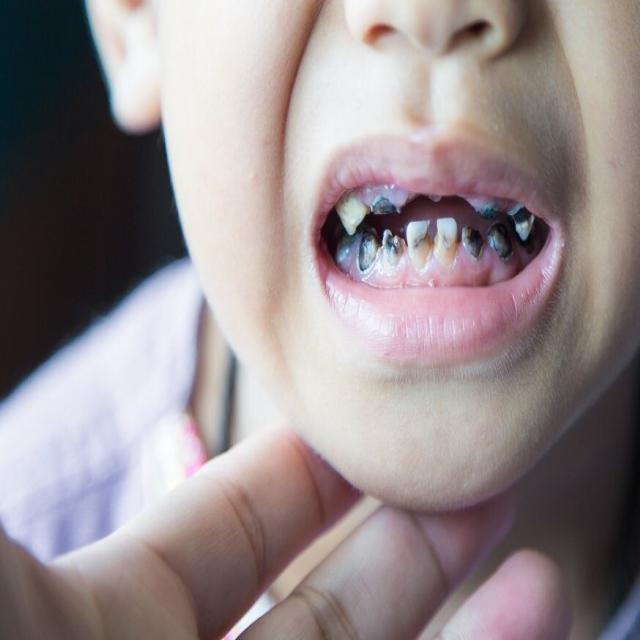Cavity: (365, 182, 418, 226), (349, 221, 383, 277), (380, 226, 413, 280), (434, 218, 457, 278), (494, 218, 518, 275), (410, 217, 433, 276), (463, 217, 490, 266), (468, 193, 507, 226), (510, 206, 542, 241)
